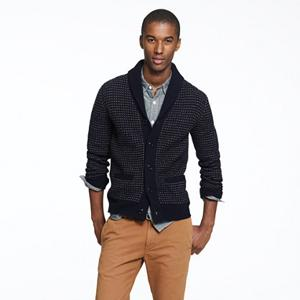C_cardigan sweater: (92, 59, 225, 224)
